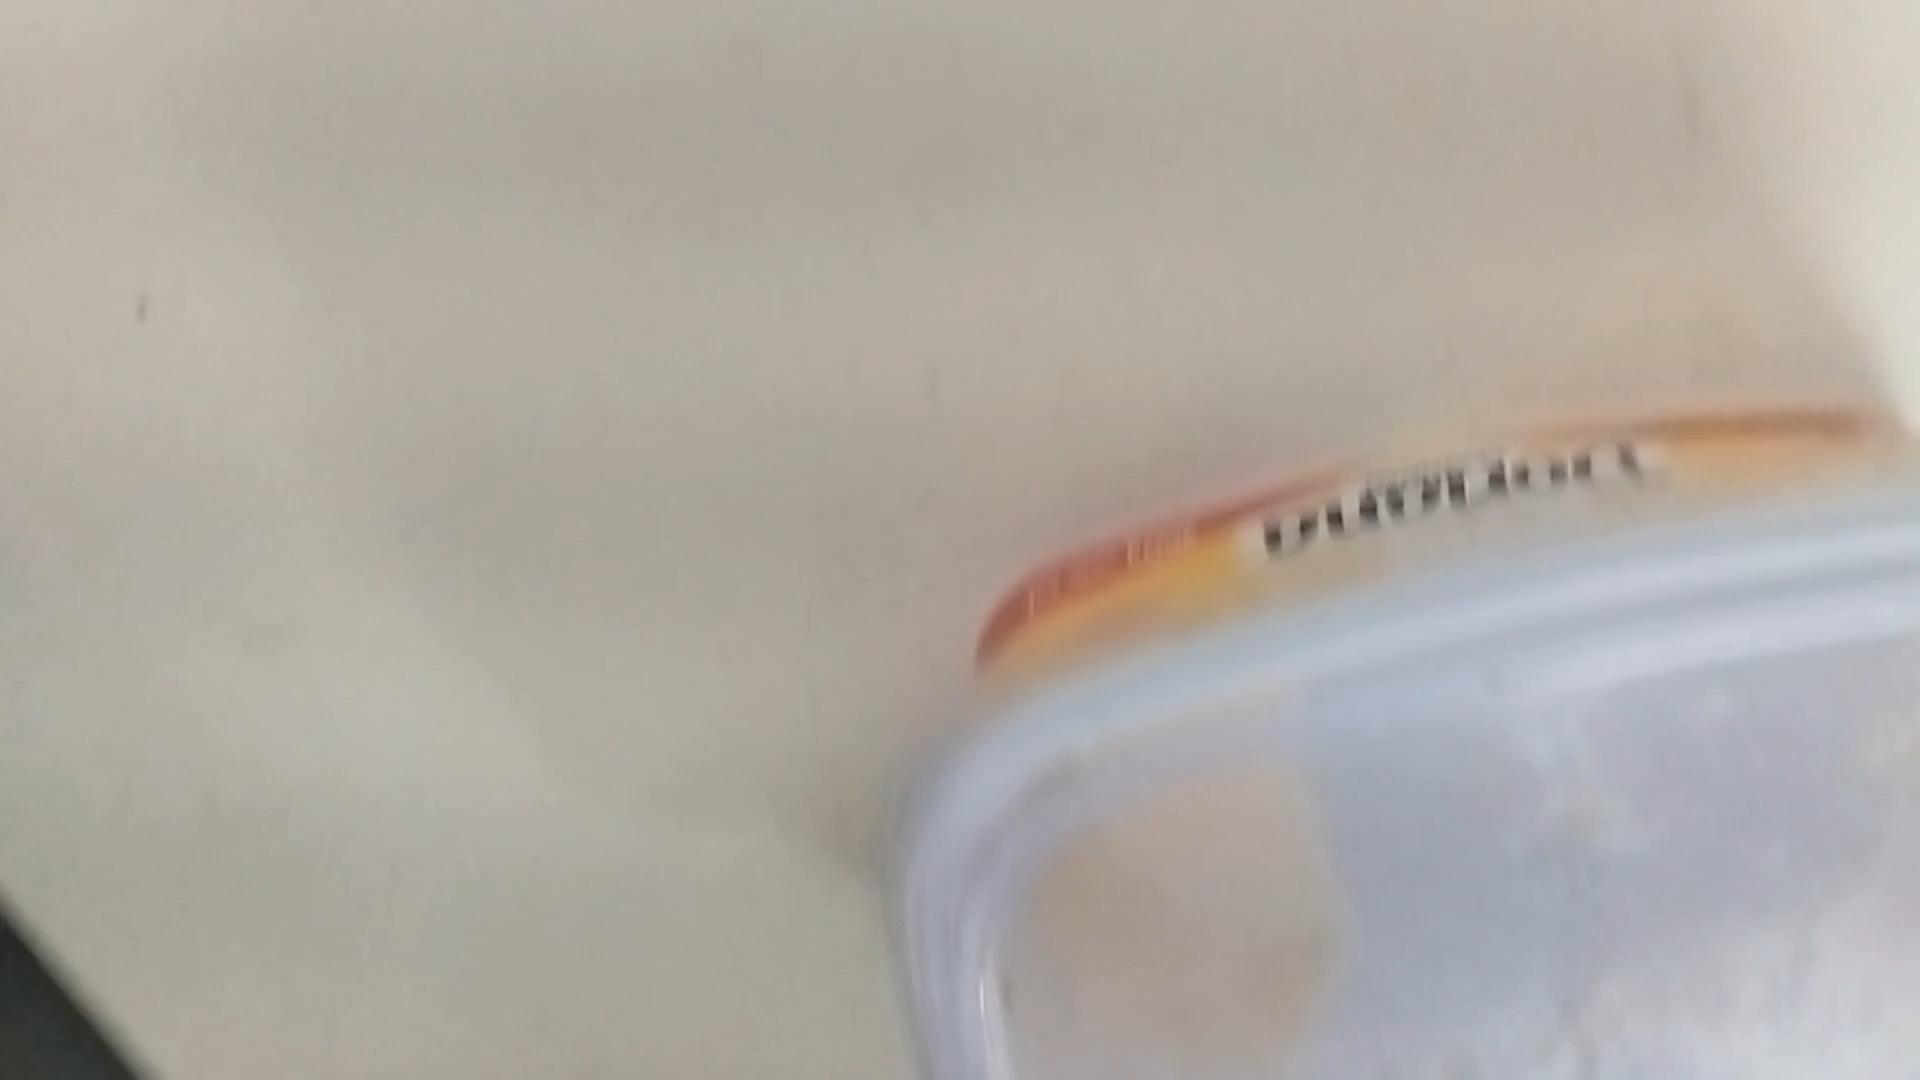butter: (881, 401, 1913, 1075)
